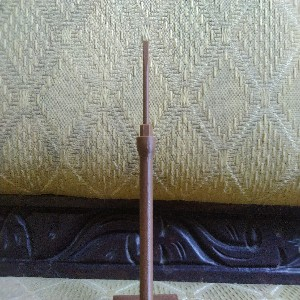obeng: (135, 39, 157, 300)
